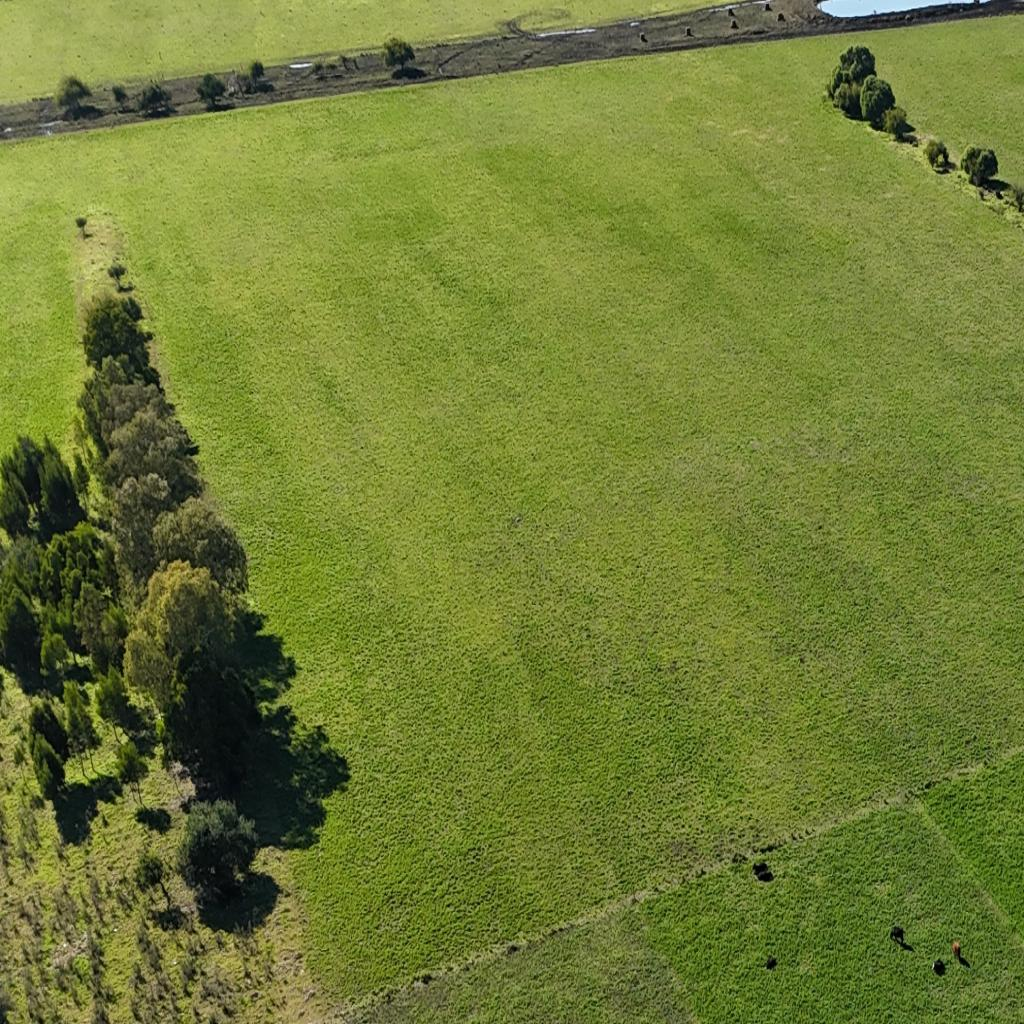cow: (752, 860, 773, 881), (889, 924, 904, 946), (931, 959, 945, 975), (952, 941, 961, 960), (765, 954, 777, 968)
